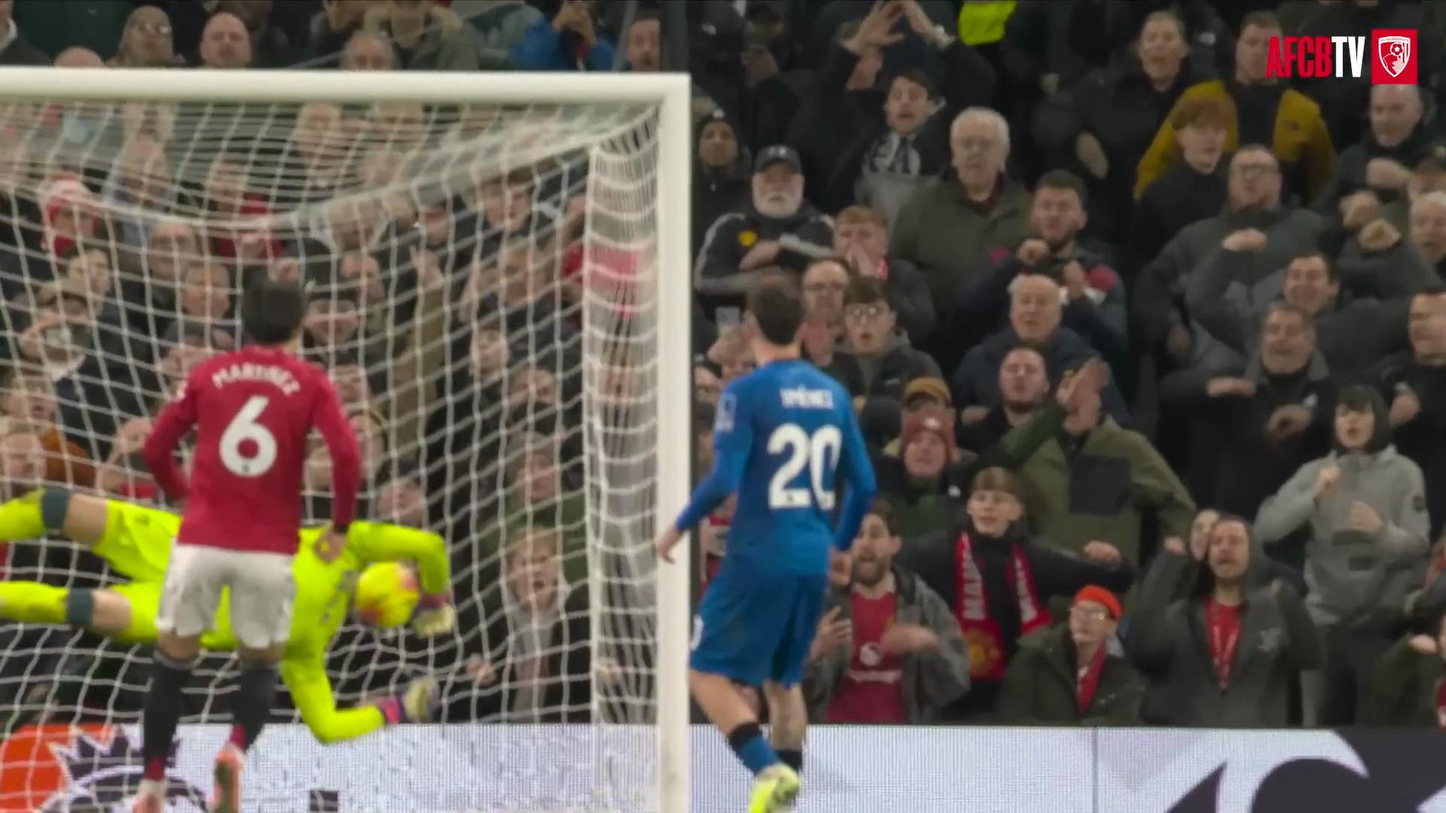football: (354, 562, 419, 627)
player: (134, 279, 360, 812), (657, 276, 876, 812), (280, 521, 452, 742)
